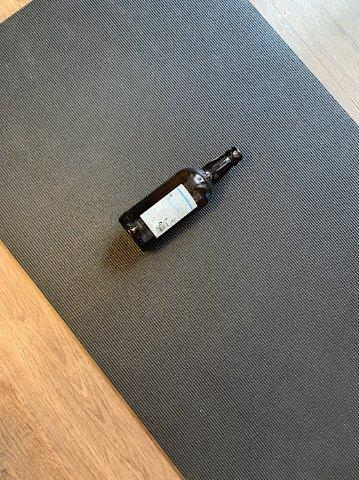botolkaca: (117, 147, 242, 252)
